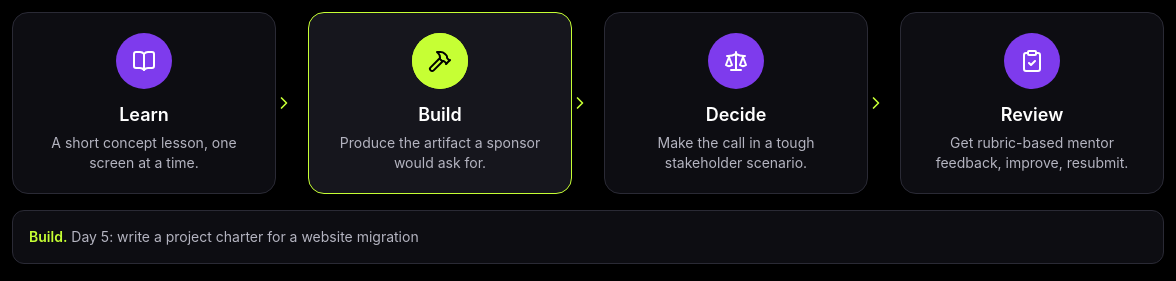
Test: LearningLoop › shows an example for the chosen step
The width and height of the screenshot is (1176, 281).
Click the button "Decide Make the call in a tough stakeholder scenario.": point(736, 103) left=604, top=12, right=868, bottom=194
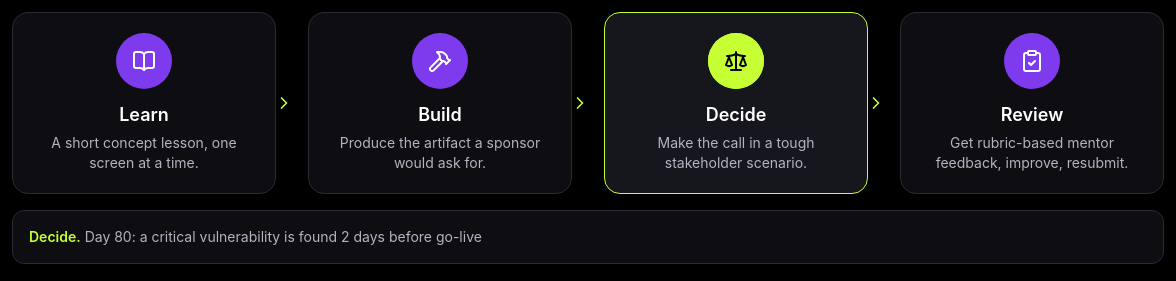
Result: the message shows "Day 80" at left=85, top=228, right=482, bottom=245
